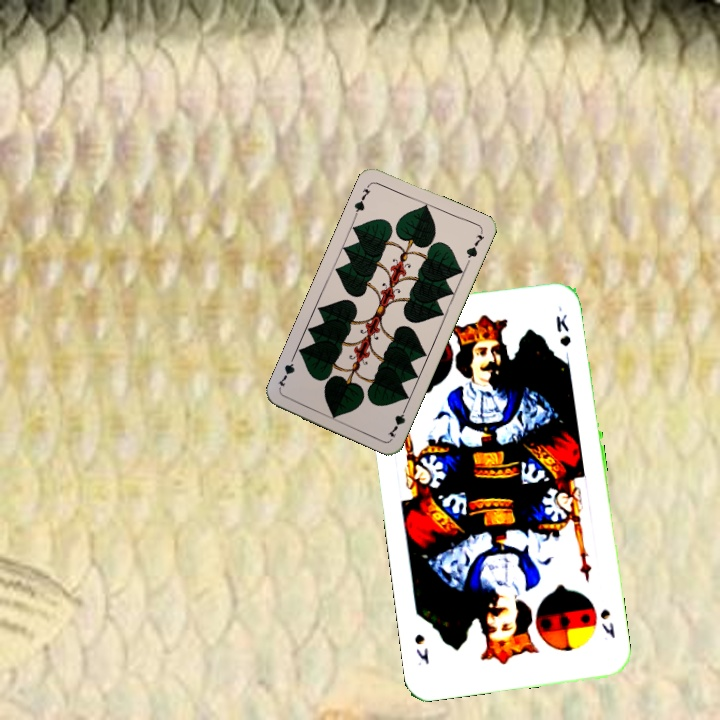G7: (384, 402, 410, 440), (350, 180, 373, 219)
SK: (596, 605, 618, 641)
